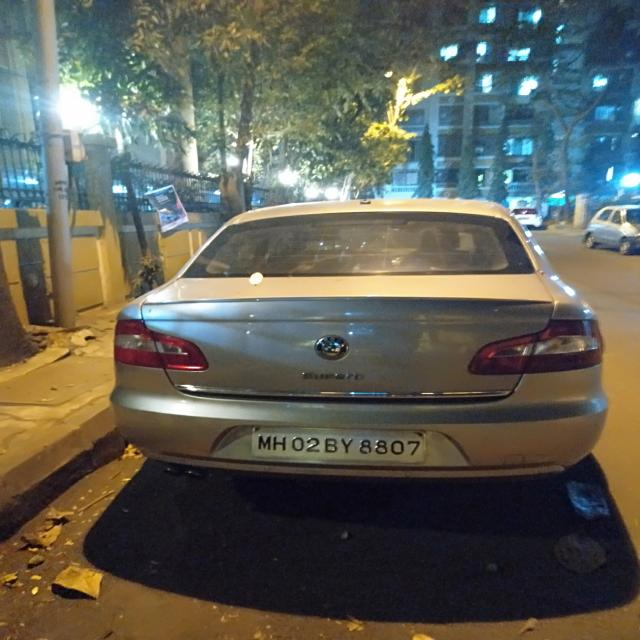Number-Plate: (254, 425, 432, 461)
